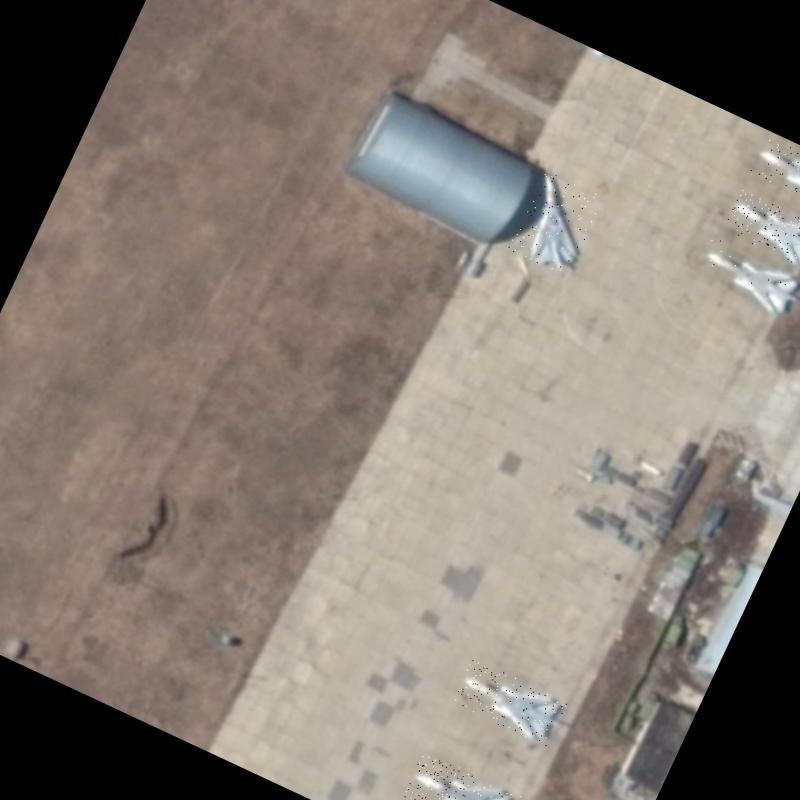A20: (507, 169, 604, 277), (451, 658, 567, 748), (694, 235, 800, 319), (720, 188, 800, 272), (402, 750, 521, 800), (747, 134, 800, 215)
